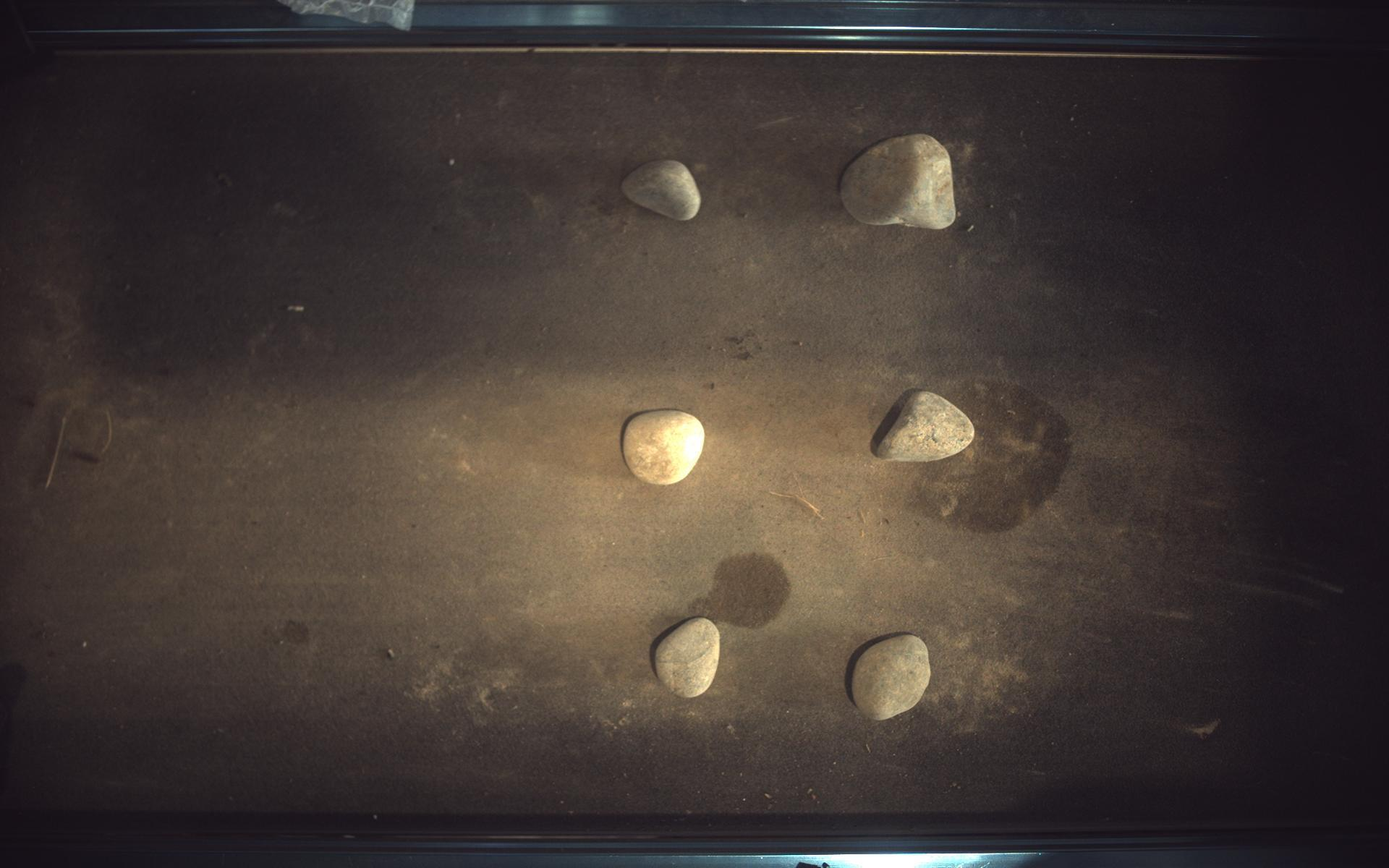stone: (842, 133, 959, 229), (877, 391, 977, 462), (853, 636, 933, 721), (624, 410, 706, 485), (655, 618, 721, 699), (623, 159, 702, 220)
